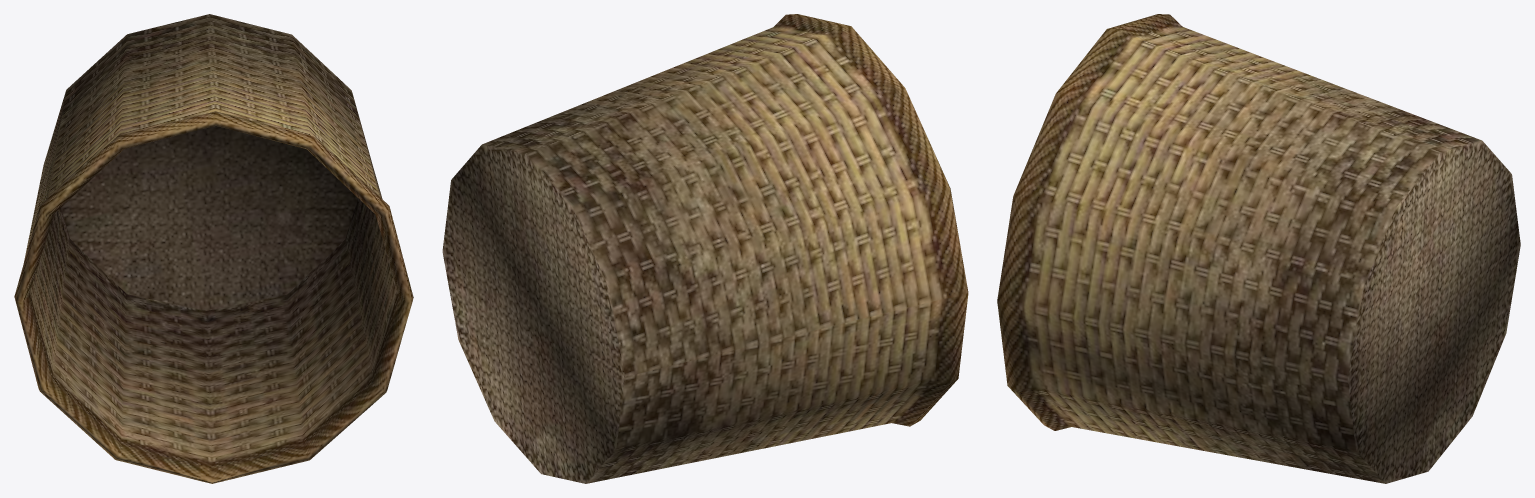
File: resourcebasket-base.glb
3 views of the same model, side by side, from view 1: azimuth 30°, elevation 25°; view 2: azimuth 150°, elevation 25°; view 3: azimuth 270°, elevation 25° (orthographic). The views are drawn at different scales.
Size of the model in its own units: 0.5574 by 0.4564 by 0.5525.
Materials: 1 (1 with a texture image).
